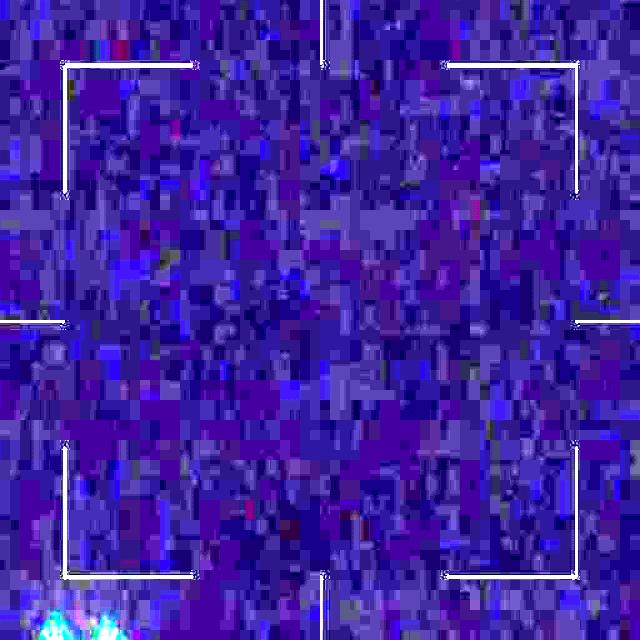bird: (41, 630, 120, 640)
